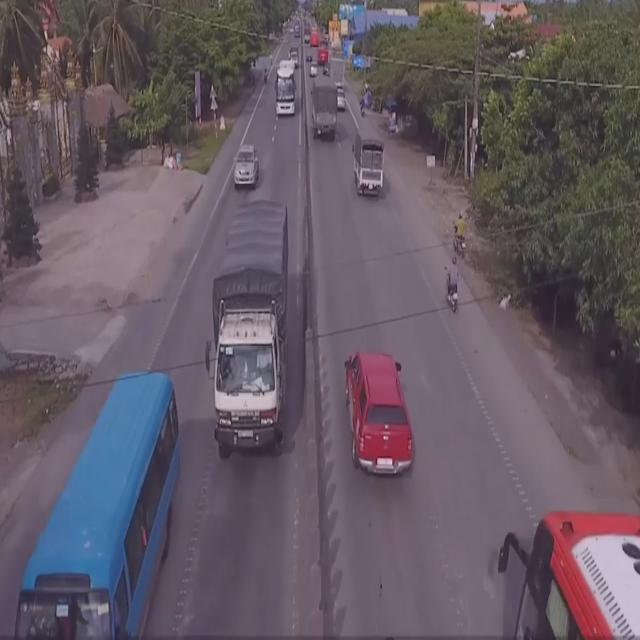bus: (20, 368, 181, 640), (500, 504, 640, 640), (275, 58, 297, 115)
car: (343, 348, 416, 480), (233, 140, 259, 187)
motorbike: (445, 255, 463, 314), (452, 213, 468, 261)
truck: (206, 199, 289, 463), (352, 134, 383, 201), (310, 78, 338, 139)
